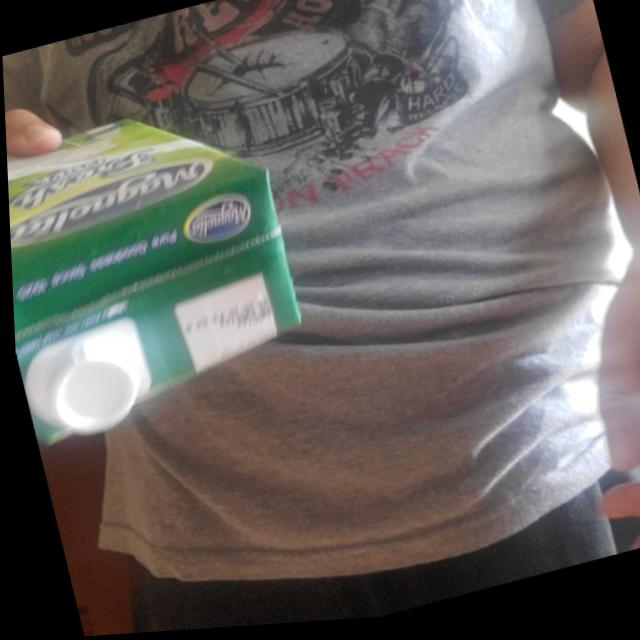milk: (4, 87, 322, 450)
